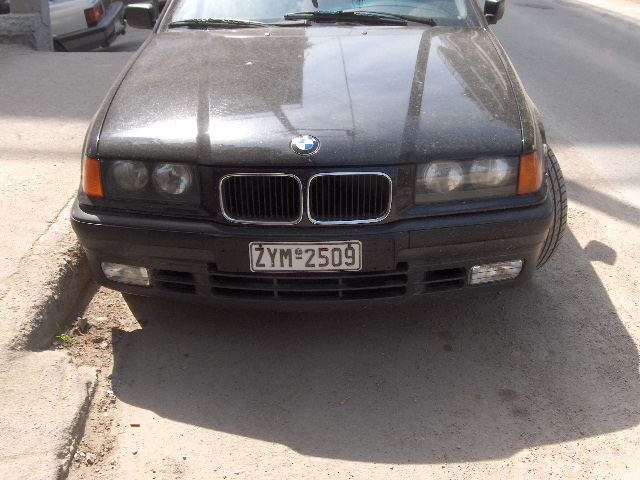licenseplate: (248, 241, 362, 273)
